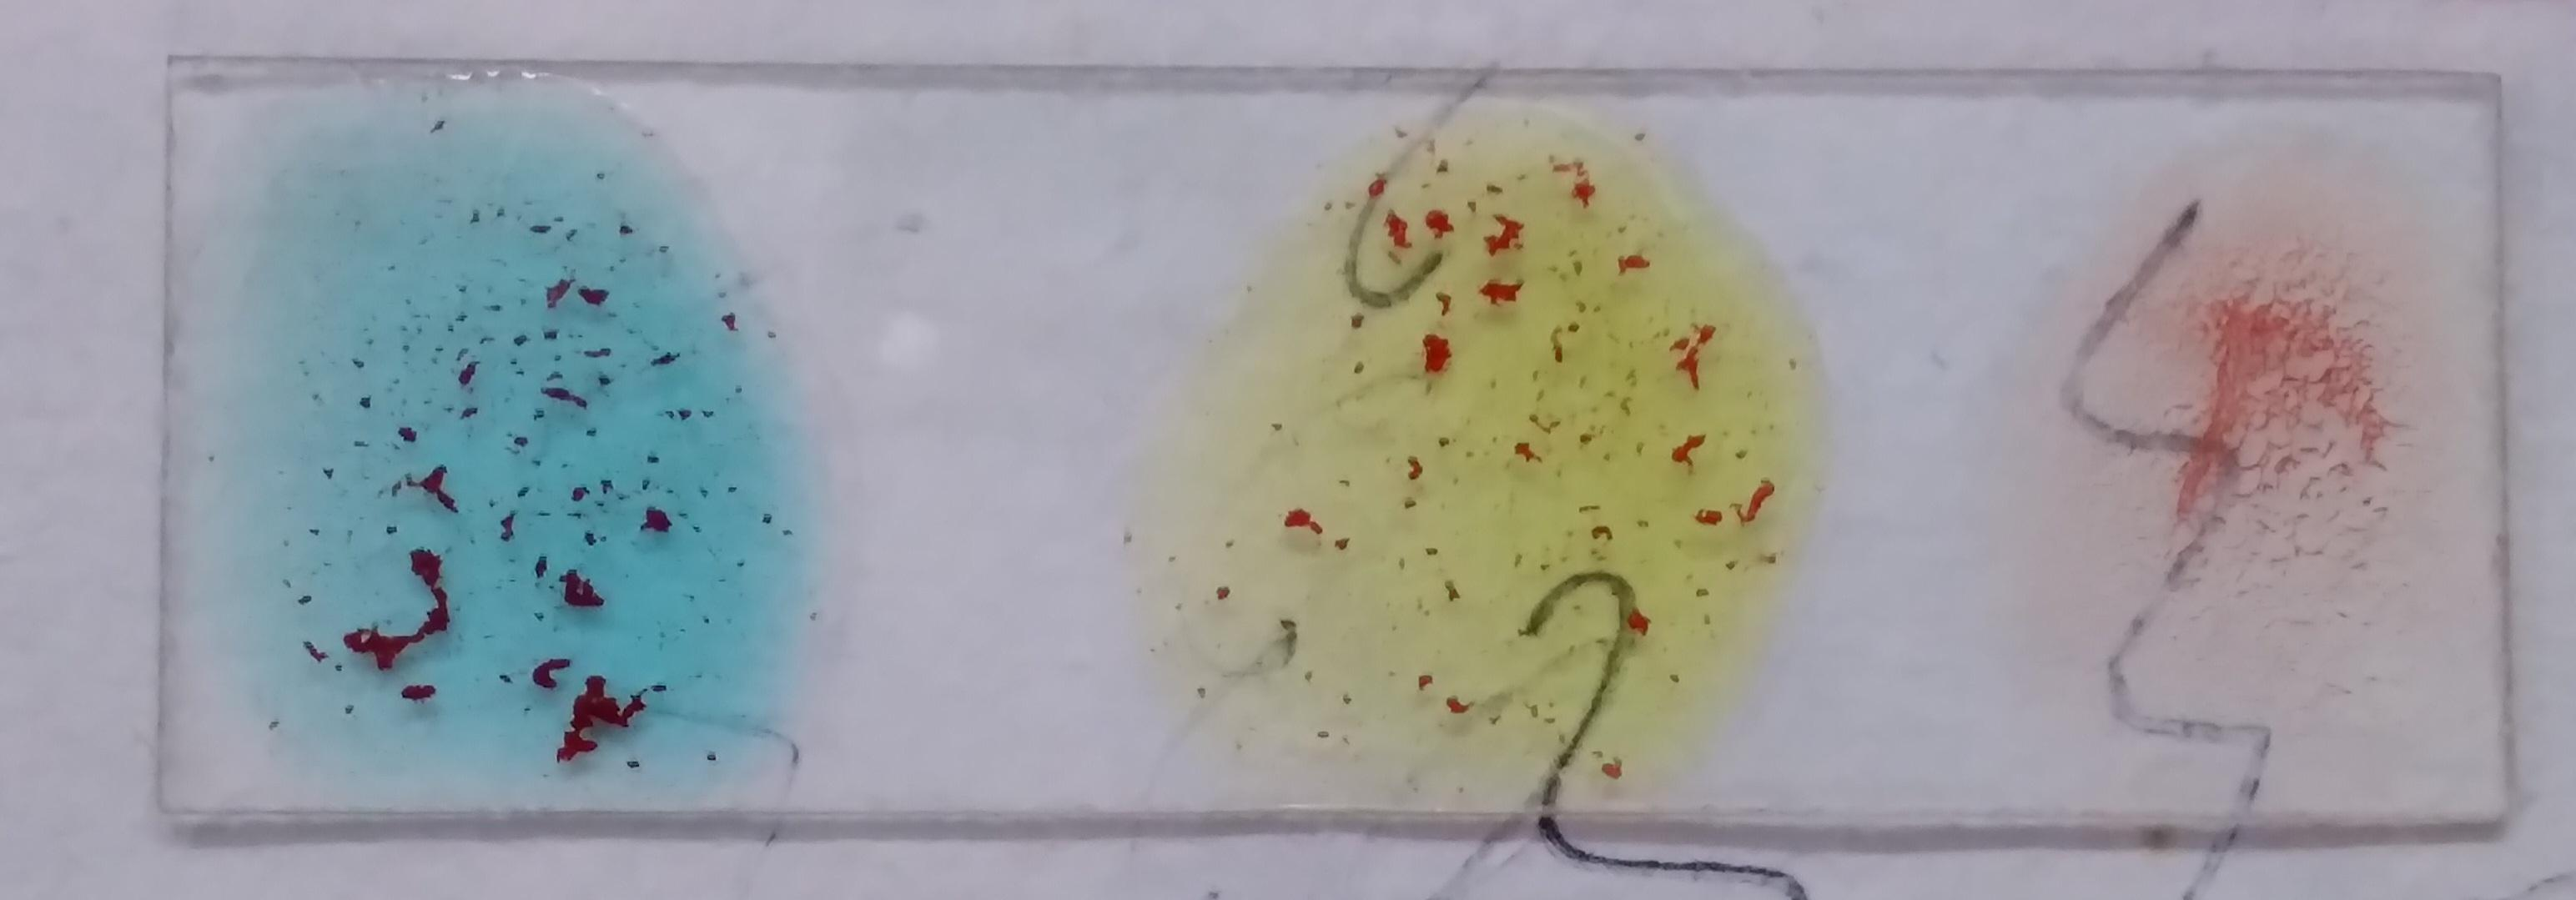A: (197, 77, 792, 755)
B: (1212, 133, 1763, 742)
D: (2055, 164, 2445, 709)
